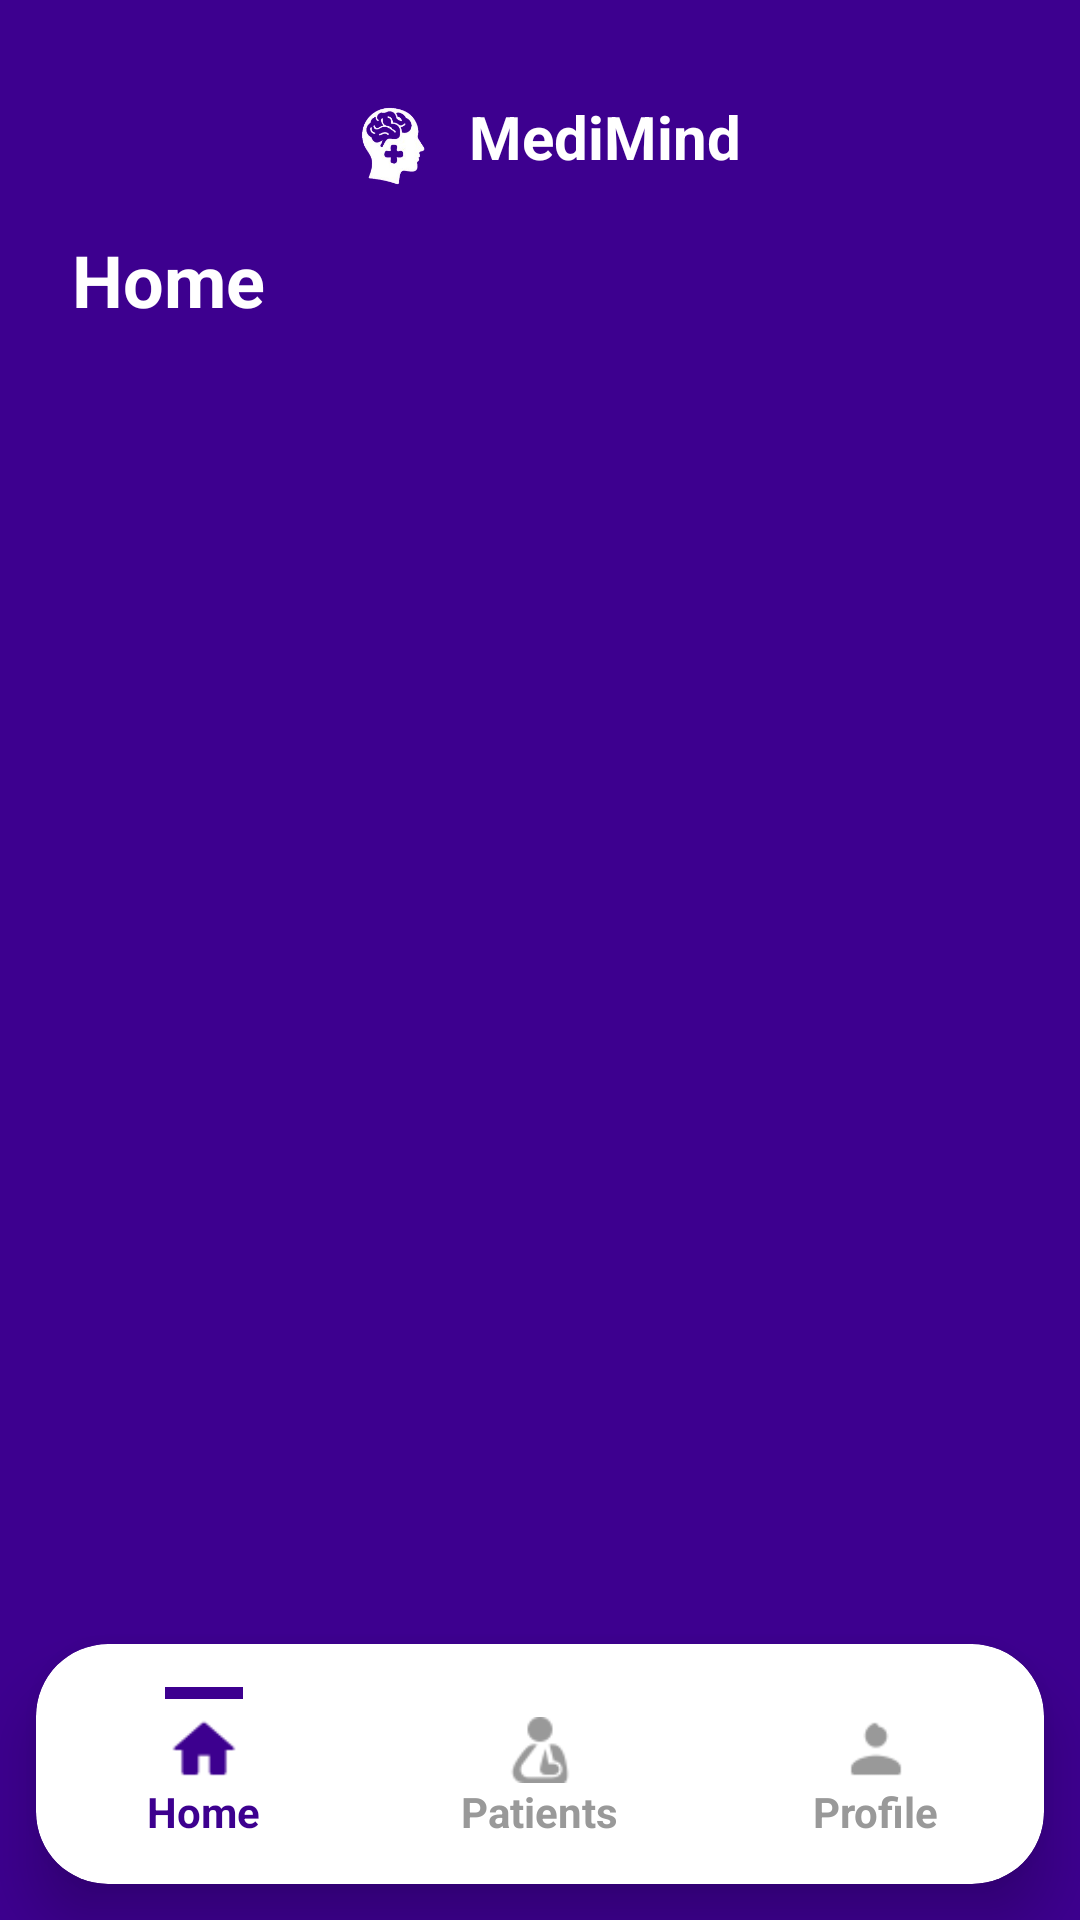

Point at icon controls on the screen. Image size 1080 × 1920, points as (x=x, y=y).
user: (x=876, y=1749)
